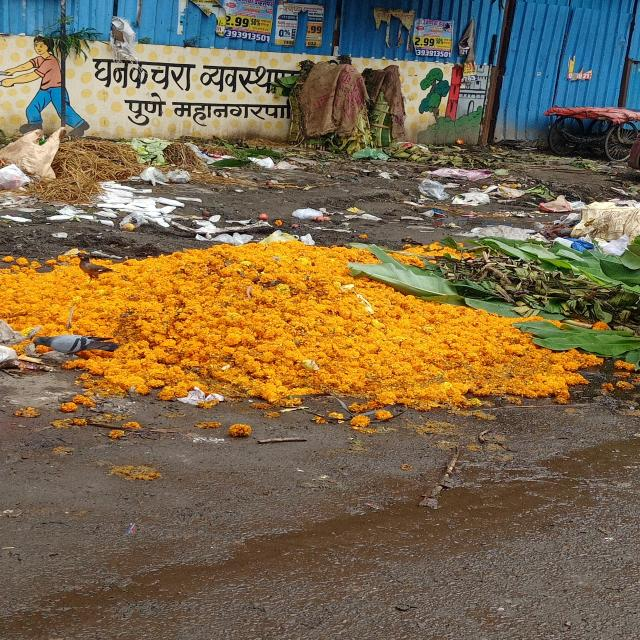garbage: (21, 215, 640, 407), (179, 134, 527, 183), (0, 128, 171, 224)
